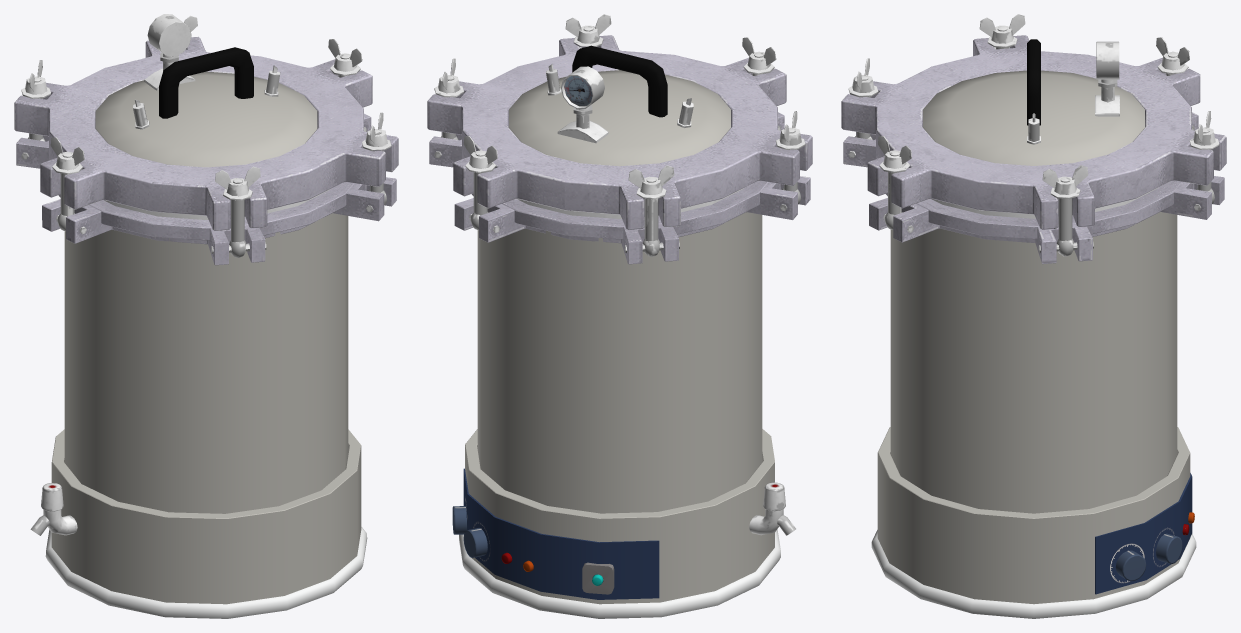
The model's file is GaoYaGuan.fbx.
3 renders of one model, left to right at view 1: azimuth 30°, elevation 25°; view 2: azimuth 150°, elevation 25°; view 3: azimuth 270°, elevation 25°, orthographic.
Parts seen in each view (by area): view 1: GuanShen, GuanGai, polySurface41, polySurface26, polySurface56, polySurface49, polySurface6; view 2: GuanShen, GuanGai, polySurface6, polySurface19, polySurface49, polySurface41, polySurface26, polySurface56, AnNiu5; view 3: GuanShen, GuanGai, polySurface56, polySurface49, polySurface26, polySurface6, polySurface19, AnNiu4, polySurface41, AnNiu5.
Boxes of the visible parts, <box> form: GuanShen: <box>16,113,396,618</box>; GuanGai: <box>14,14,398,231</box>; polySurface41: <box>215,166,260,257</box>; polySurface26: <box>50,137,84,231</box>; polySurface56: <box>328,39,362,77</box>; polySurface49: <box>362,112,391,204</box>; polySurface6: <box>21,60,50,141</box>; GuanShen: <box>429,112,810,618</box>; GuanGai: <box>427,35,812,229</box>; polySurface6: <box>628,165,674,256</box>; polySurface19: <box>463,136,497,230</box>; polySurface49: <box>565,14,611,47</box>; polySurface41: <box>742,37,776,75</box>; polySurface26: <box>775,111,805,204</box>; polySurface56: <box>434,58,464,139</box>; AnNiu5: <box>463,528,487,557</box>; GuanShen: <box>843,112,1224,618</box>; GuanGai: <box>841,35,1226,229</box>; polySurface56: <box>1042,165,1088,256</box>; polySurface49: <box>878,136,911,229</box>; polySurface26: <box>979,14,1025,49</box>; polySurface6: <box>1156,37,1189,75</box>; polySurface19: <box>1189,111,1219,203</box>; AnNiu4: <box>1115,550,1146,581</box>; polySurface41: <box>848,58,878,139</box>; AnNiu5: <box>1156,533,1182,563</box>.
Size of the model in its own units: 0.7979 by 1.12 by 0.7694.
